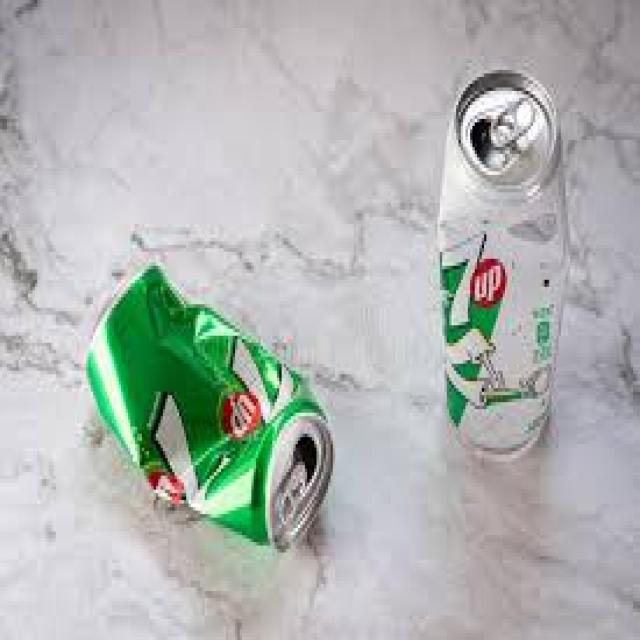metal: (84, 255, 333, 553), (433, 67, 563, 465)
